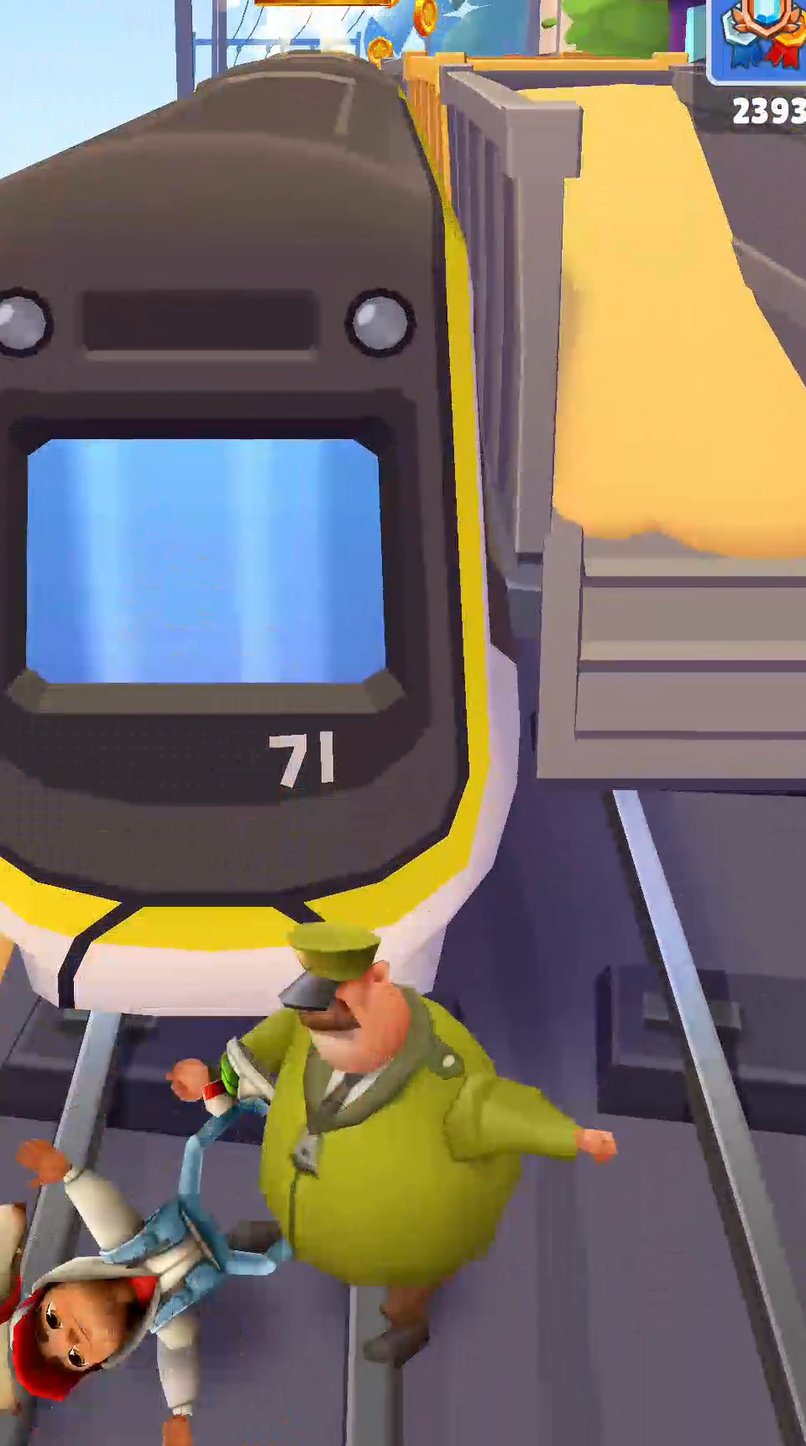climber: (537, 87, 805, 791)
police: (171, 923, 616, 1365)
train: (0, 55, 517, 1014)
